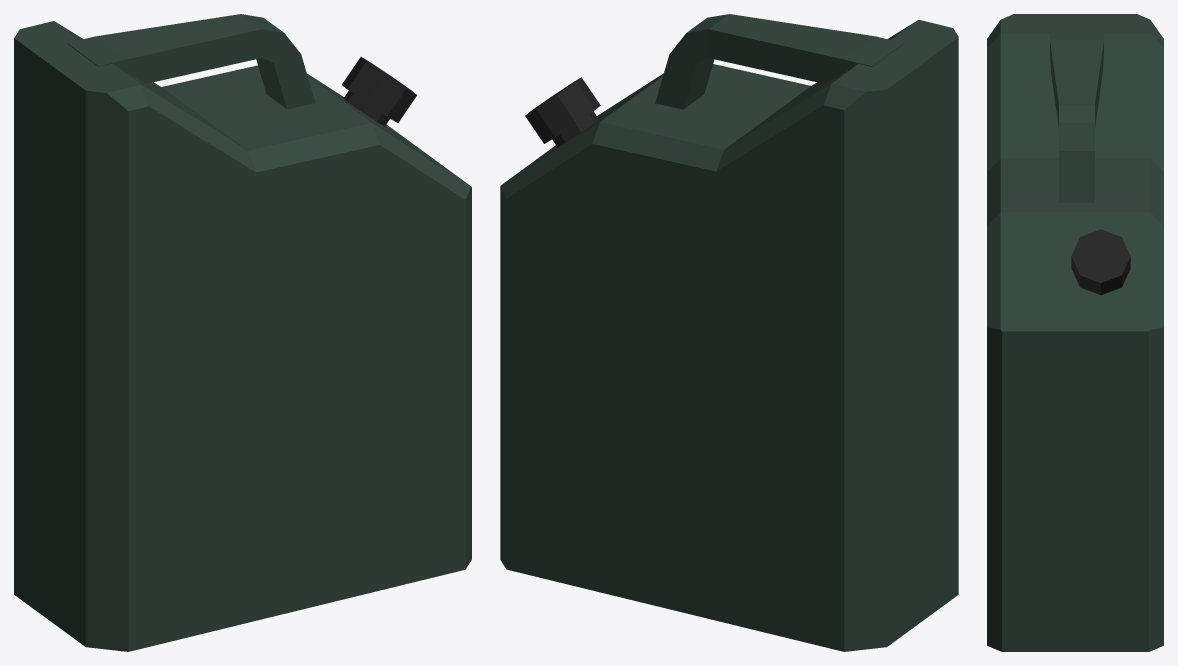
Rendered from canister_1.fbx.
3 views of the same model, side by side, from view 1: azimuth 30°, elevation 25°; view 2: azimuth 150°, elevation 25°; view 3: azimuth 270°, elevation 25° (orthographic). The views are drawn at different scales.
Visible parts, largest first — view 1: kanister.001; view 2: kanister.001; view 3: kanister.001.
Part boxes in pixels (left/top/right/bottom): kanister.001: left=14, top=14, right=471, bottom=651; kanister.001: left=500, top=14, right=958, bottom=651; kanister.001: left=987, top=14, right=1163, bottom=651.
Bounding box in the file's own units: 71.46 × 100 × 33.58.
